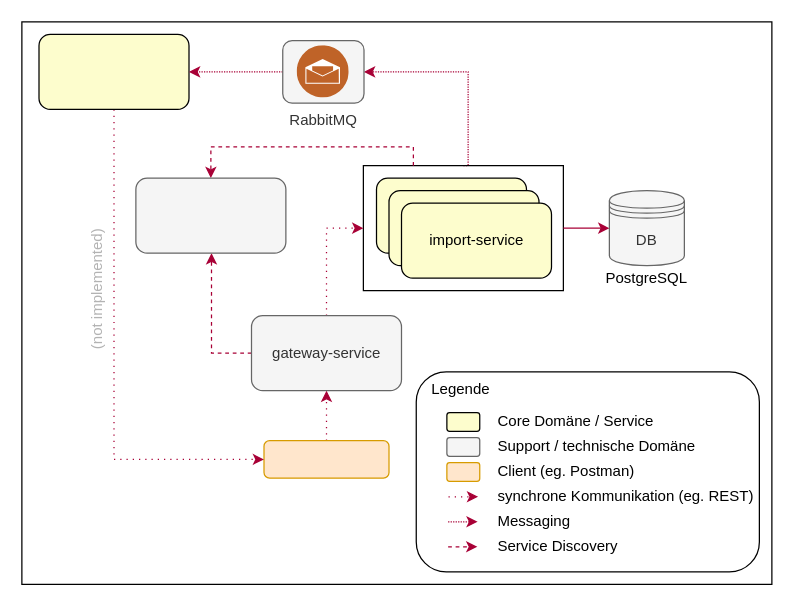
Some shapes in this 794 by 606 pixel diagram are drawn without their labels. The shapes that lost their labels are listed below. From the top down, each one's centre as x and y in pixels, then its label:
At (113,71): "consumer-service".
At (210,215): "discovery-service".
At (326,458): "client".
